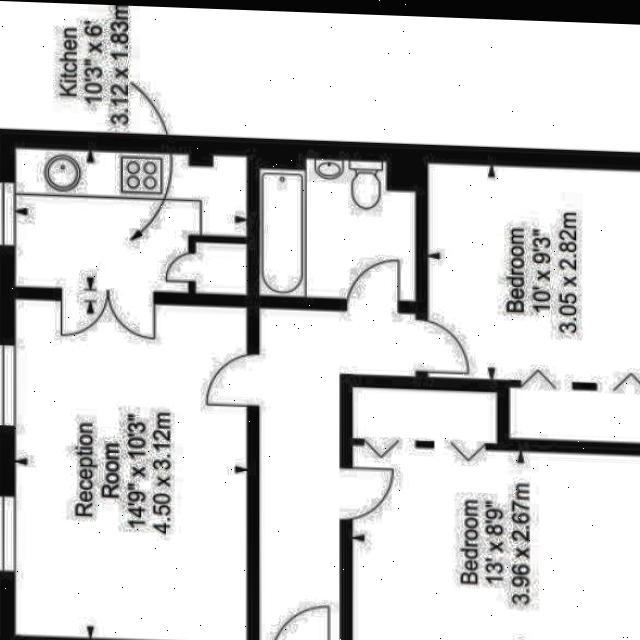room: (15, 298, 247, 640), (352, 386, 640, 640), (428, 162, 640, 443), (258, 308, 416, 640), (10, 146, 253, 294), (259, 158, 416, 300)
